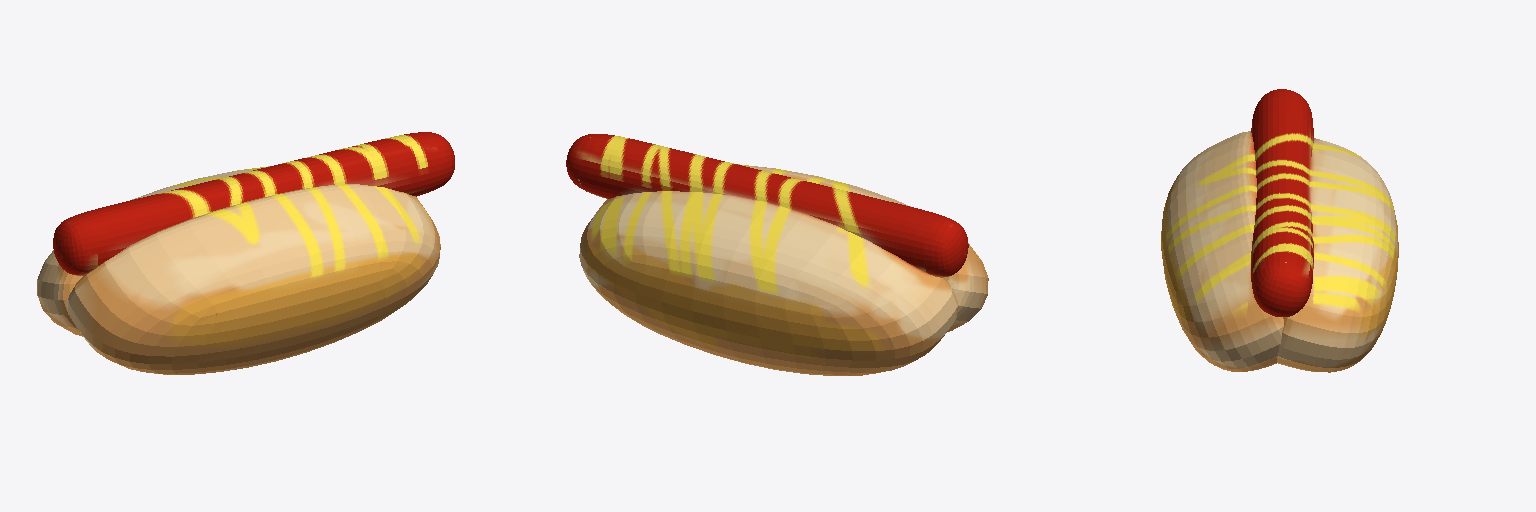
3 views of the same model, side by side, from view 1: azimuth 30°, elevation 25°; view 2: azimuth 150°, elevation 25°; view 3: azimuth 270°, elevation 25° (orthographic).
Parts seen in each view (by area): view 1: 立方体.002; view 2: 立方体.002; view 3: 立方体.002.
Boxes of the visible parts, x1,y1,x2,y2 form: 立方体.002: [37, 132, 454, 374]; 立方体.002: [566, 134, 988, 375]; 立方体.002: [1161, 89, 1398, 372].
Size of the model in its own units: 5.29 by 2.09 by 2.77.
Materials: 1 (1 with a texture image).